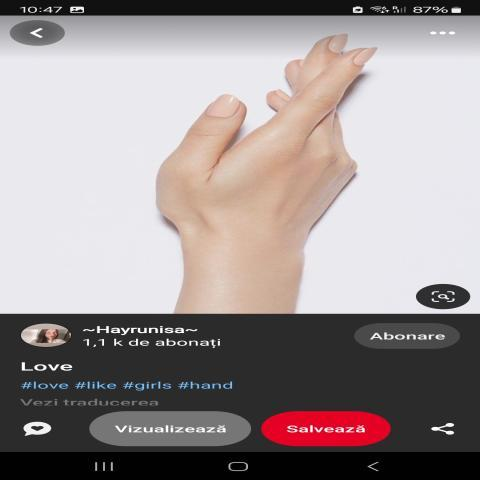Hands: (125, 12, 422, 299)
